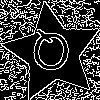Q: (27, 27, 73, 82)
